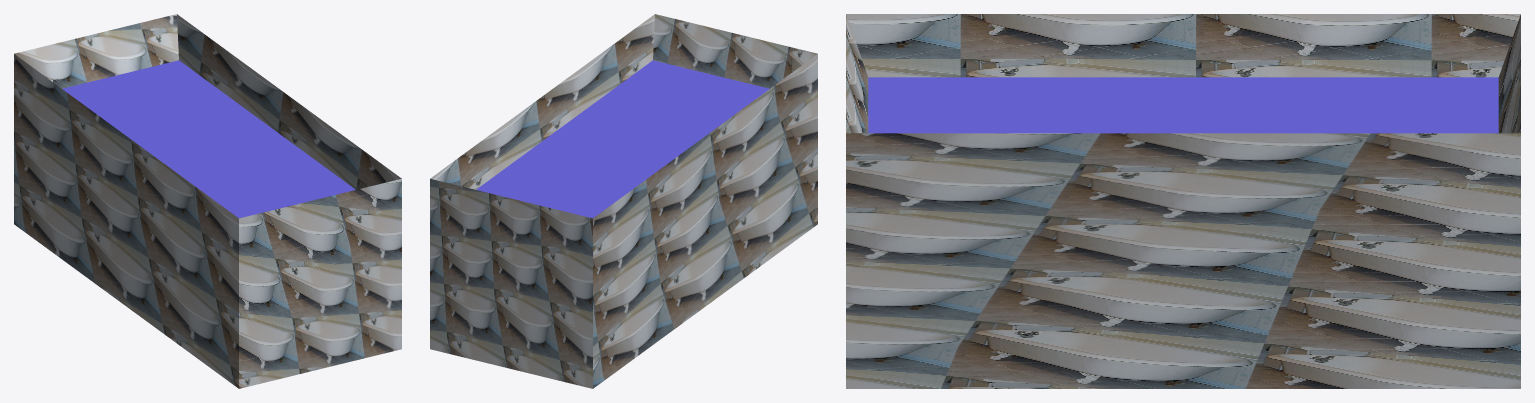
Rendered from bathtub (1).fbx.
3 views of the same model, side by side, from view 1: azimuth 30°, elevation 25°; view 2: azimuth 150°, elevation 25°; view 3: azimuth 270°, elevation 25° (orthographic). The views are drawn at different scales.
Parts seen in each view (by area): view 1: bathtub; view 2: bathtub; view 3: bathtub.
Boxes of the visible parts, x1=… form: bathtub: x1=14, y1=14, x2=401, y2=388; bathtub: x1=430, y1=14, x2=817, y2=388; bathtub: x1=846, y1=14, x2=1520, y2=388.
Bounding box in the file's own units: 261 × 261 × 625.
2 materials, 1 textured.
